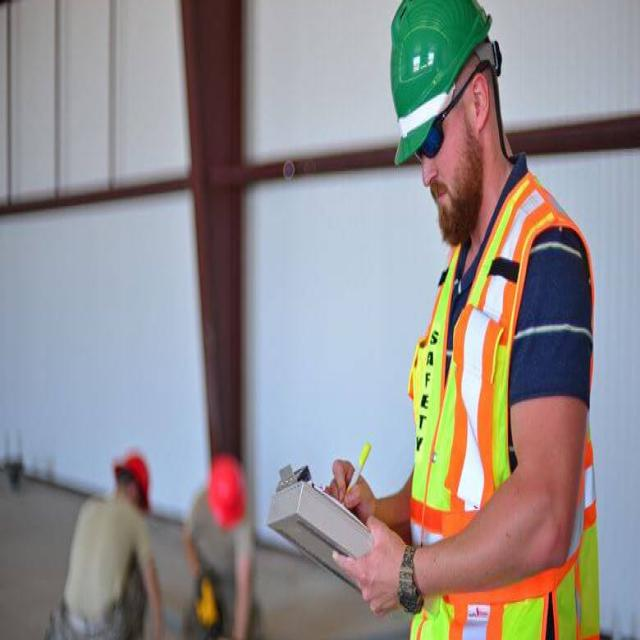goggles: (401, 60, 496, 171)
helmet: (385, 0, 500, 167)
vest: (405, 176, 601, 640)
